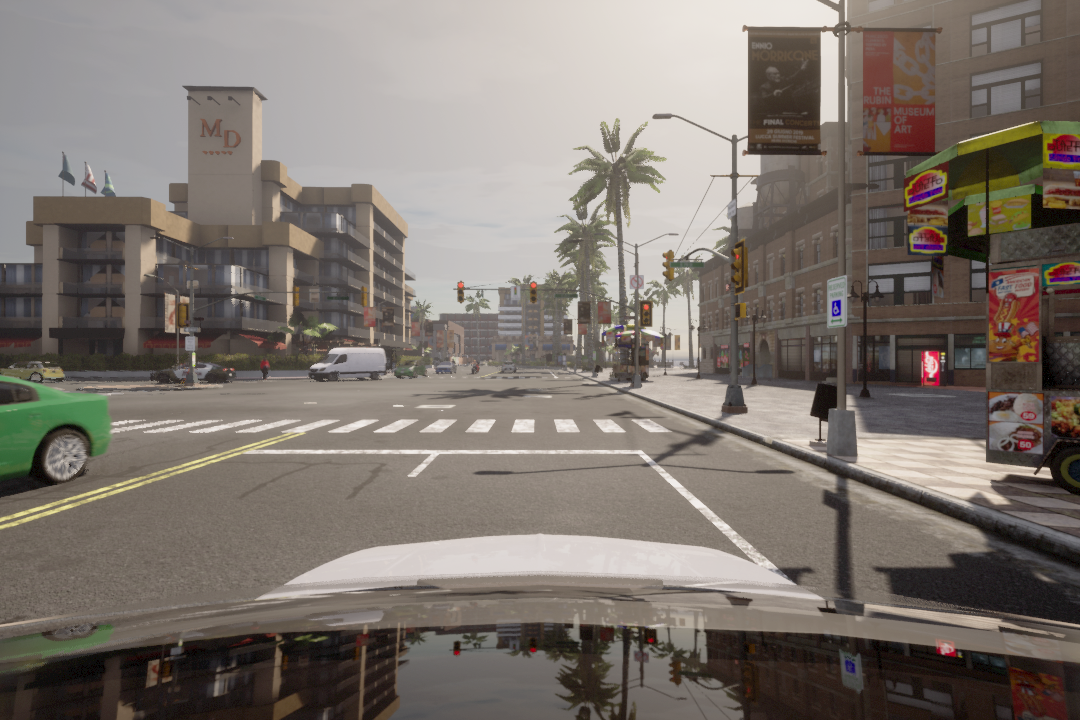TrafficLight: (730, 240, 748, 294), (659, 249, 677, 281), (639, 301, 653, 330), (455, 276, 468, 304), (527, 280, 539, 302)
TrafficSign: (628, 275, 644, 292)
walkside: (79, 413, 704, 443)
